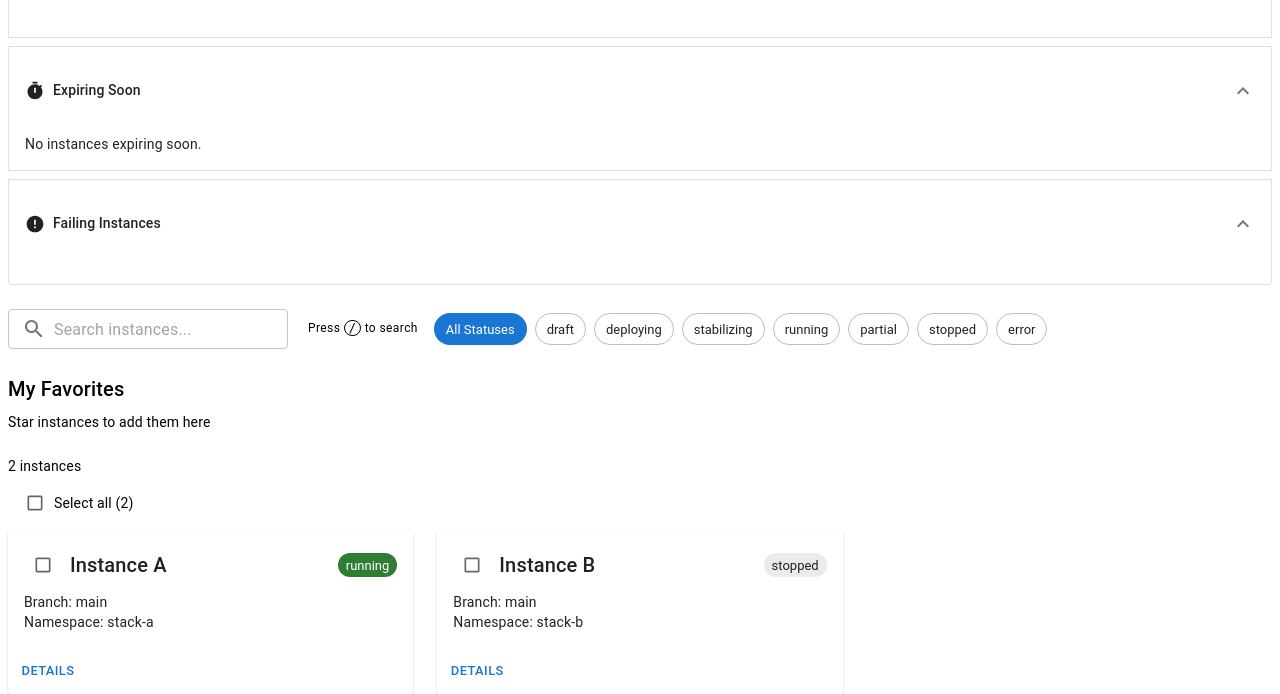
it: Dashboard › Bulk Operations › select all checkbox selects all filtered instances
(page scrolled)
Expected: the heading "Instance A" is shown, [70,549,167,581]
Step 1. Click the checkbox named "Select all instances" → click(35, 503), box [25,493,45,513]
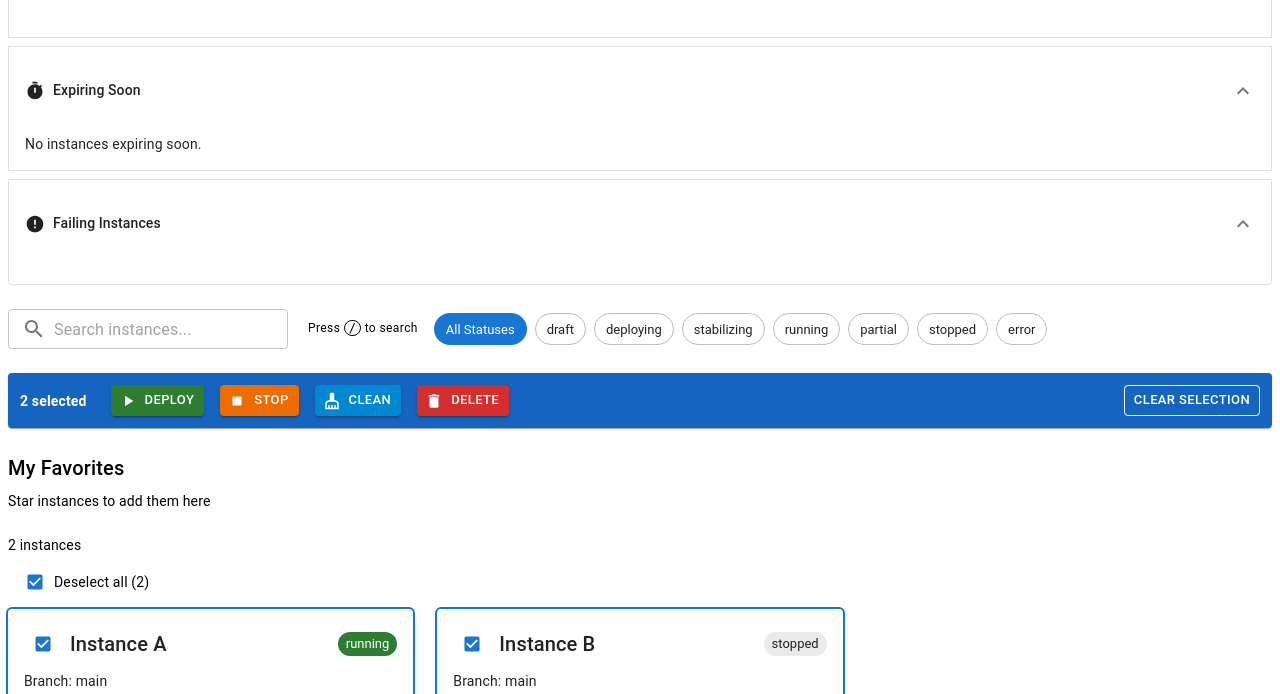
Result: the text "2 selected" is shown at [20,391,87,411]
